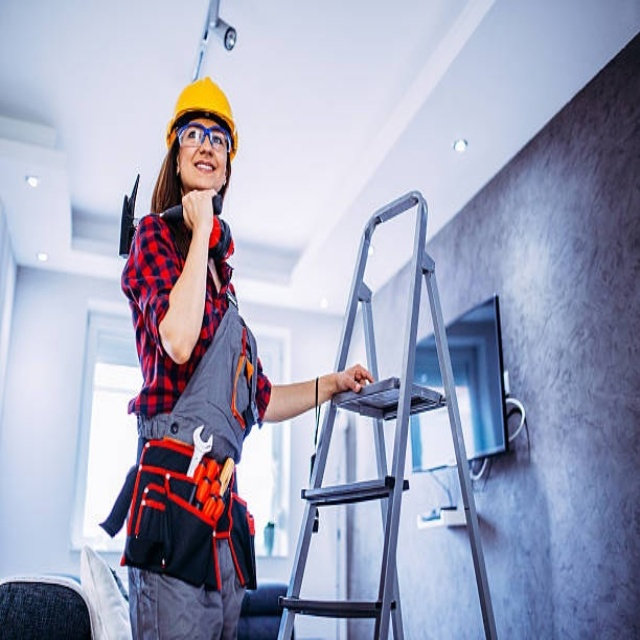Gafas: (176, 123, 233, 154)
Sin_guantes: (183, 180, 221, 235), (335, 364, 375, 395)
Sin_mascara: (191, 152, 219, 185)
